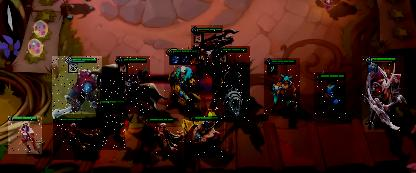1_bard: (184, 116, 224, 158)
1_nilah: (314, 72, 346, 118)
1_rakan: (53, 118, 97, 160), (145, 118, 181, 160)
1_swain: (97, 76, 125, 150)
1_xayah: (8, 116, 42, 154)
2_aphelios: (116, 56, 150, 114)
2_hecarim: (362, 56, 404, 132)
2_rell: (212, 46, 250, 122)
2_rengar: (52, 56, 102, 114)
2_senna: (191, 25, 223, 79)
2_zeri: (264, 58, 300, 116)
3_graves: (164, 48, 200, 114)
